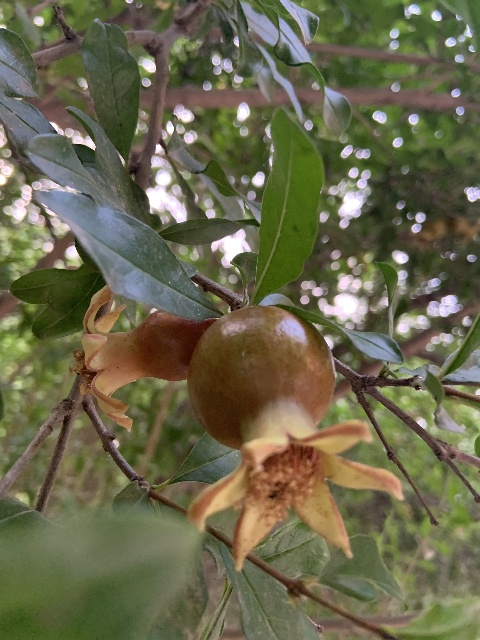early-fruit: (185, 306, 403, 570), (74, 284, 212, 430)
